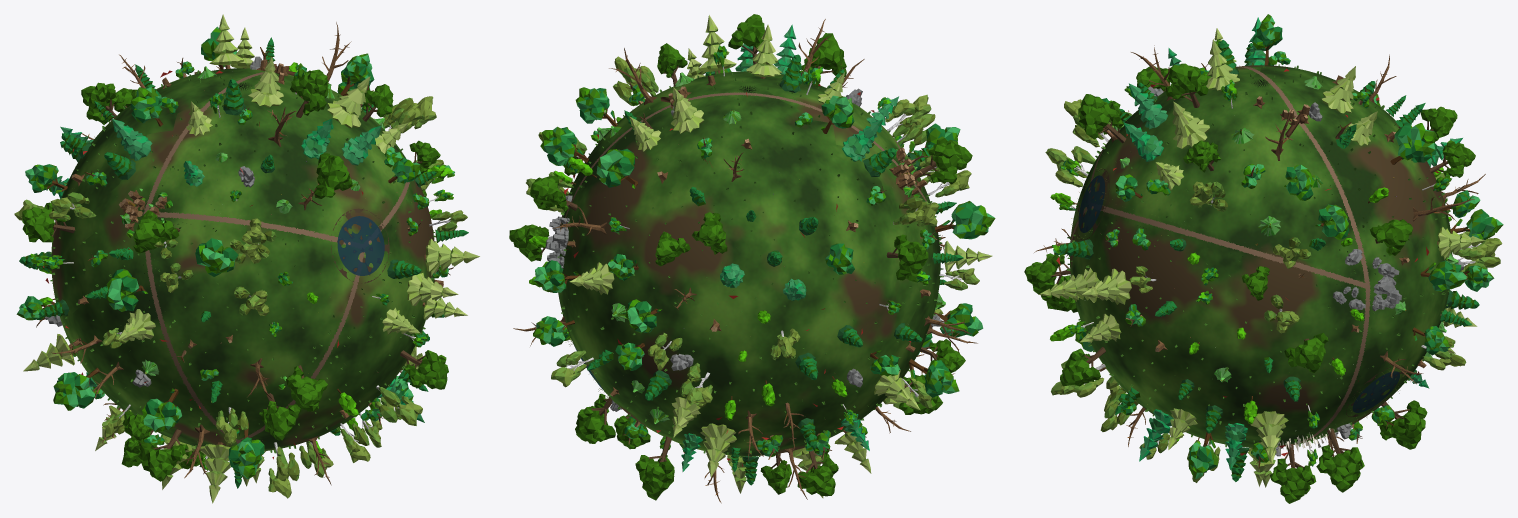
Rendered from Planeta_Bosque.fbx.
3 views of the same model, side by side, from view 1: azimuth 30°, elevation 25°; view 2: azimuth 150°, elevation 25°; view 3: azimuth 270°, elevation 25° (orthographic).
Parts seen in each view (by area): view 1: Bosque_Malla; view 2: Bosque_Malla; view 3: Bosque_Malla.
Part boxes in pixels (x1,y1,x2,y2): Bosque_Malla: (14,14,479,503); Bosque_Malla: (509,14,995,503); Bosque_Malla: (1024,14,1503,503).
Size of the model in its own units: 57555 by 59041 by 57178.
